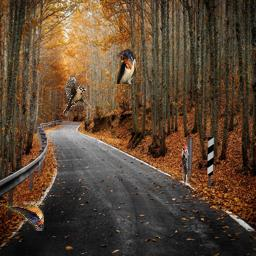Sparrow: (63, 76, 95, 116)
Swallow: (4, 201, 44, 231), (117, 49, 136, 84)
Woodpecker: (182, 146, 188, 186)
